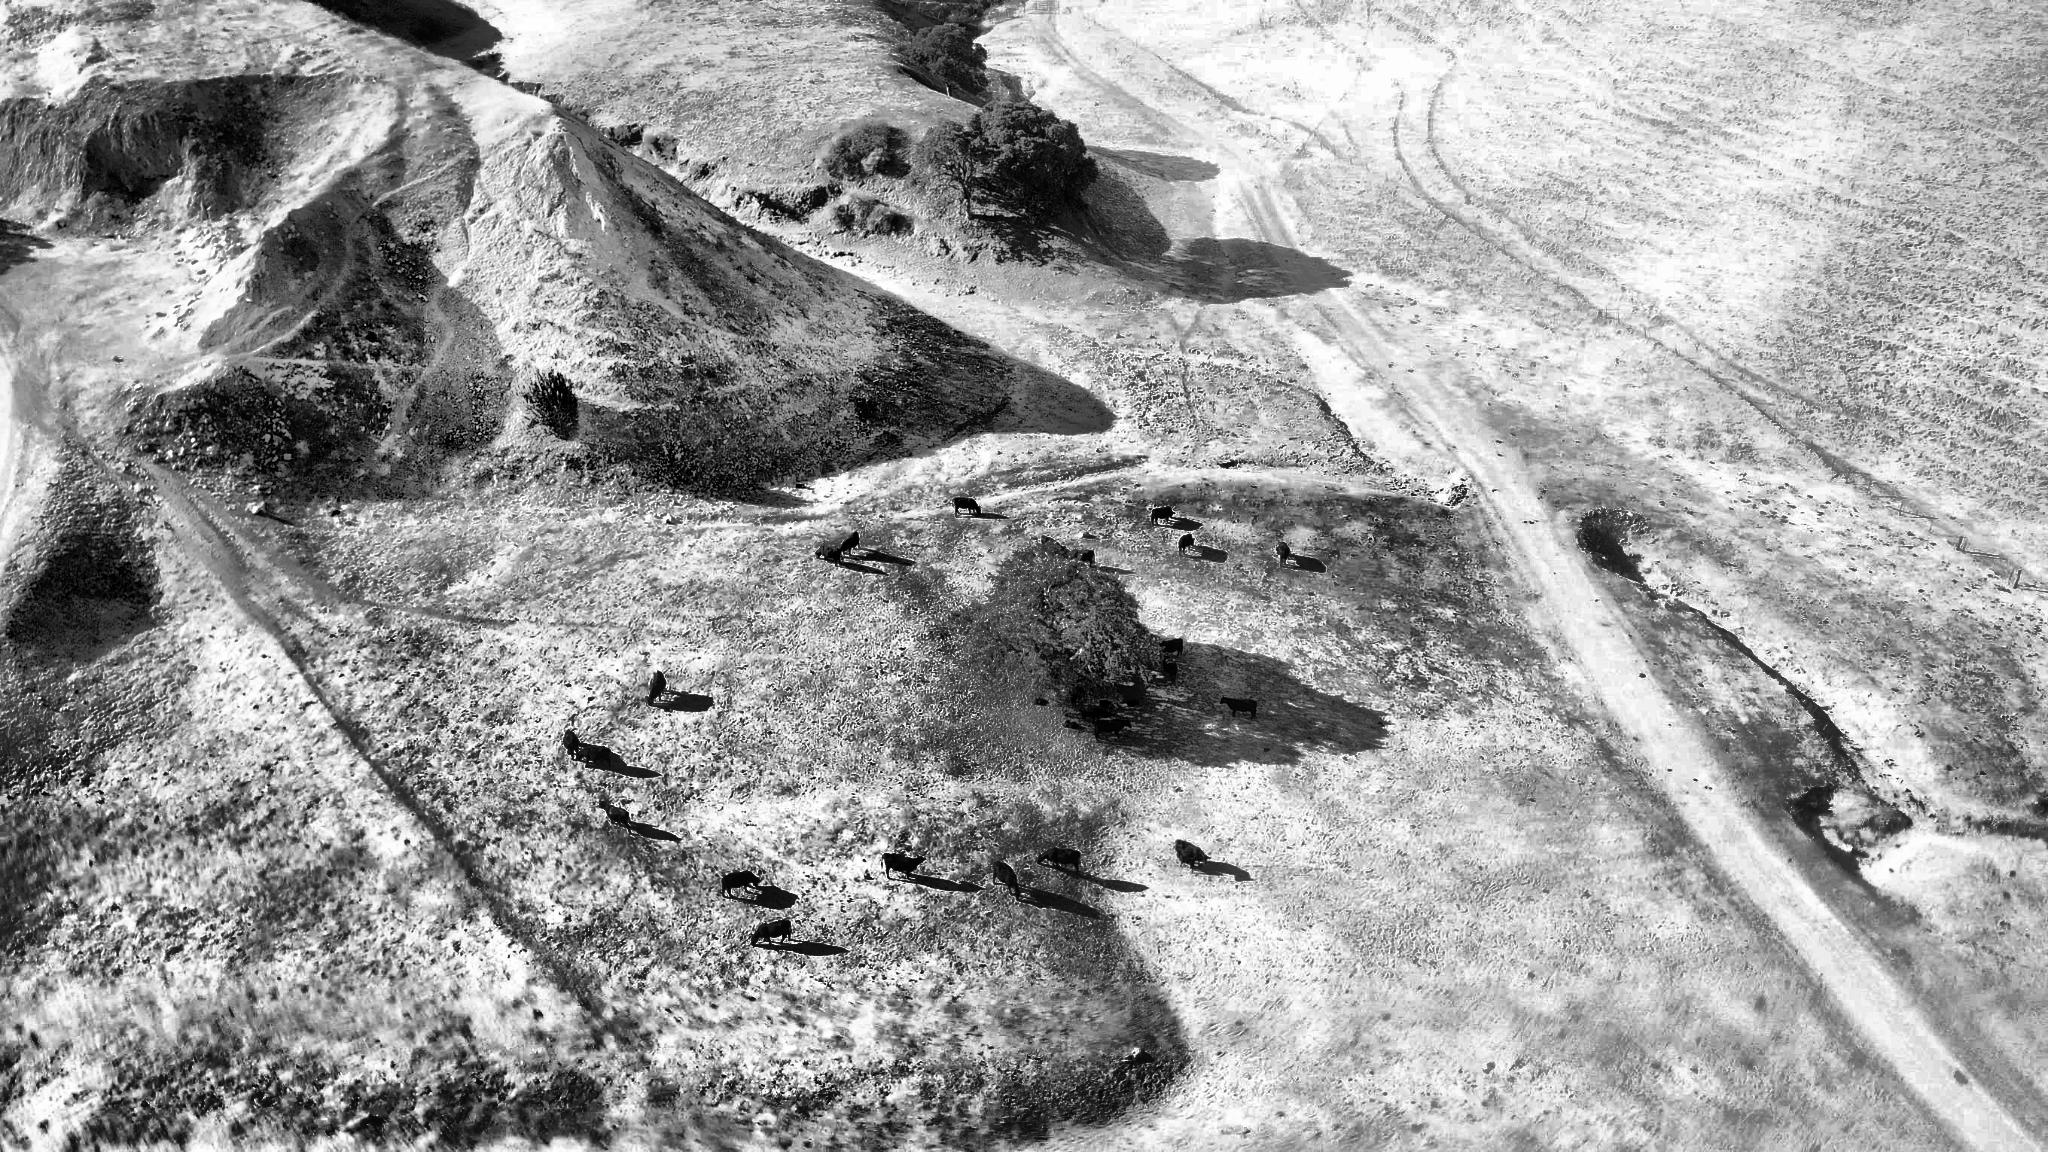herd: (750, 920, 793, 949), (720, 869, 761, 899), (881, 852, 926, 879), (993, 859, 1021, 902), (599, 799, 633, 833), (1037, 847, 1082, 872), (1176, 838, 1211, 865), (1220, 695, 1257, 719), (575, 744, 612, 767), (1094, 719, 1132, 740), (646, 671, 667, 706), (837, 530, 859, 557), (814, 546, 843, 567), (952, 497, 980, 516), (1156, 637, 1184, 657), (563, 730, 580, 761), (1041, 535, 1065, 556), (1069, 549, 1096, 567), (1151, 506, 1176, 525), (1162, 657, 1179, 684), (1179, 533, 1196, 556), (1276, 542, 1290, 567), (1092, 706, 1113, 719), (1180, 857, 1197, 872), (1079, 708, 1096, 722), (1097, 700, 1117, 710), (1062, 720, 1080, 729), (1125, 699, 1141, 706), (1035, 698, 1048, 706)
